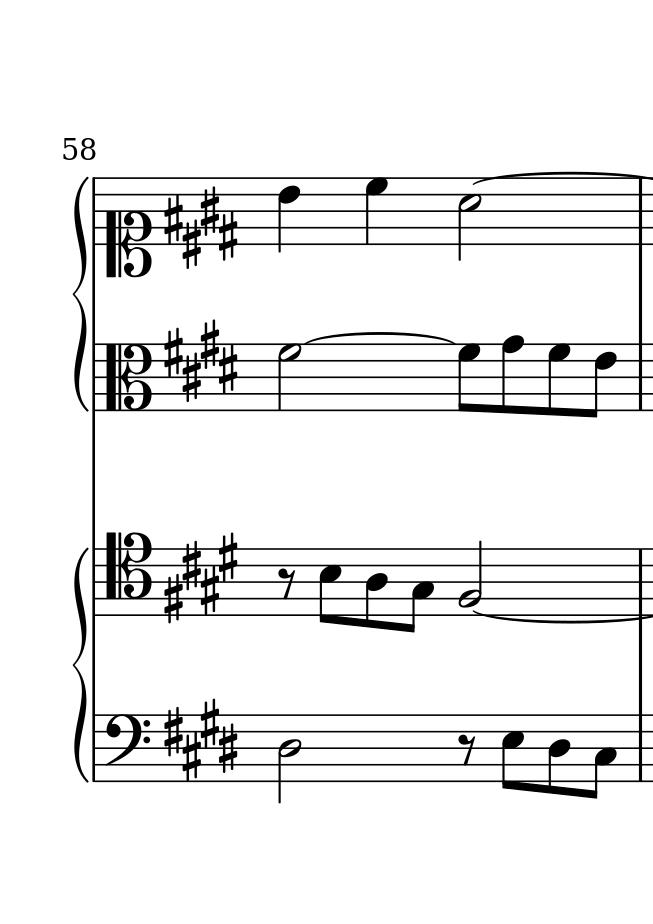2_2: (457, 539, 484, 616)
2_4: (277, 713, 301, 800)
2_5: (456, 177, 482, 260)
2_7: (276, 342, 300, 412)
4_6: (276, 177, 301, 253)
4_7: (364, 177, 389, 246)
5: (61, 135, 78, 162)
8: (79, 136, 97, 162)
8_3: (585, 713, 618, 803), (403, 545, 434, 635)
8_4: (364, 547, 389, 631), (546, 713, 571, 797)
8_5: (317, 546, 342, 626), (500, 712, 525, 792)
8_6: (586, 343, 619, 420)
8_7: (546, 342, 572, 418), (457, 342, 481, 414)
8_8: (500, 334, 525, 418)
Brace: (70, 545, 90, 786), (75, 174, 90, 415)
Cclef: (103, 341, 151, 414)
E_S: (163, 529, 240, 622), (161, 183, 239, 267), (163, 697, 240, 781), (163, 318, 237, 402)
Fclef: (103, 712, 150, 783)
Rests8: (457, 732, 478, 766), (277, 567, 298, 600)
Single_barline: (633, 546, 648, 618), (633, 343, 648, 411), (633, 715, 648, 782), (89, 547, 103, 617), (633, 180, 648, 243), (89, 715, 102, 782), (89, 342, 101, 413), (89, 178, 100, 244)
Slur: (470, 171, 653, 185), (472, 611, 653, 624), (303, 331, 460, 344)
Soprano_Cclef: (104, 176, 151, 279)
Tensor_Cclef: (105, 531, 152, 615)
